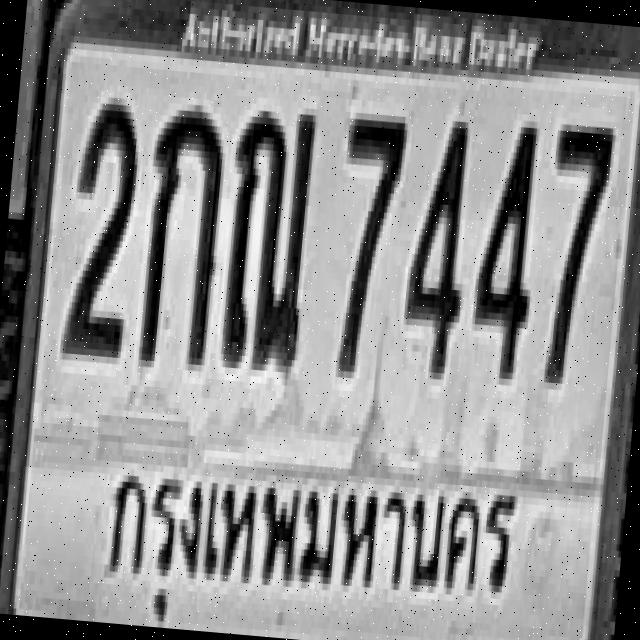10GorGai: (136, 95, 227, 365)
2: (61, 92, 141, 354)
28NorNen: (218, 98, 318, 370)
4: (400, 108, 475, 377), (468, 115, 542, 376)
7: (328, 106, 408, 374), (536, 114, 614, 383)
Bangkok: (95, 440, 528, 614)
